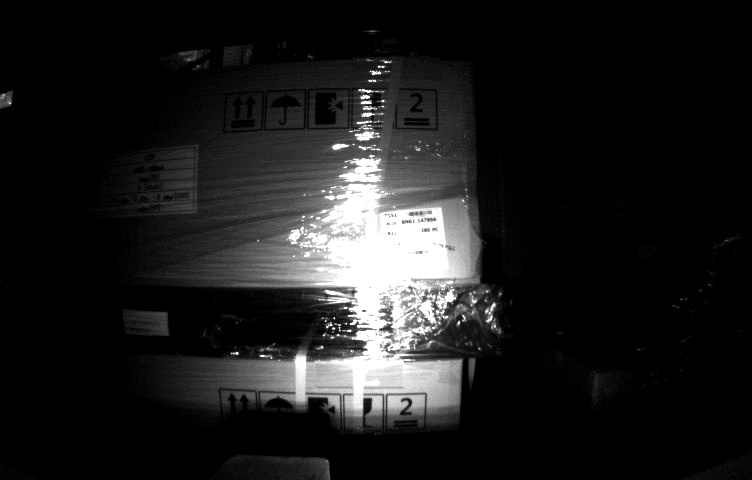True Barcode: (380, 205, 444, 275)
